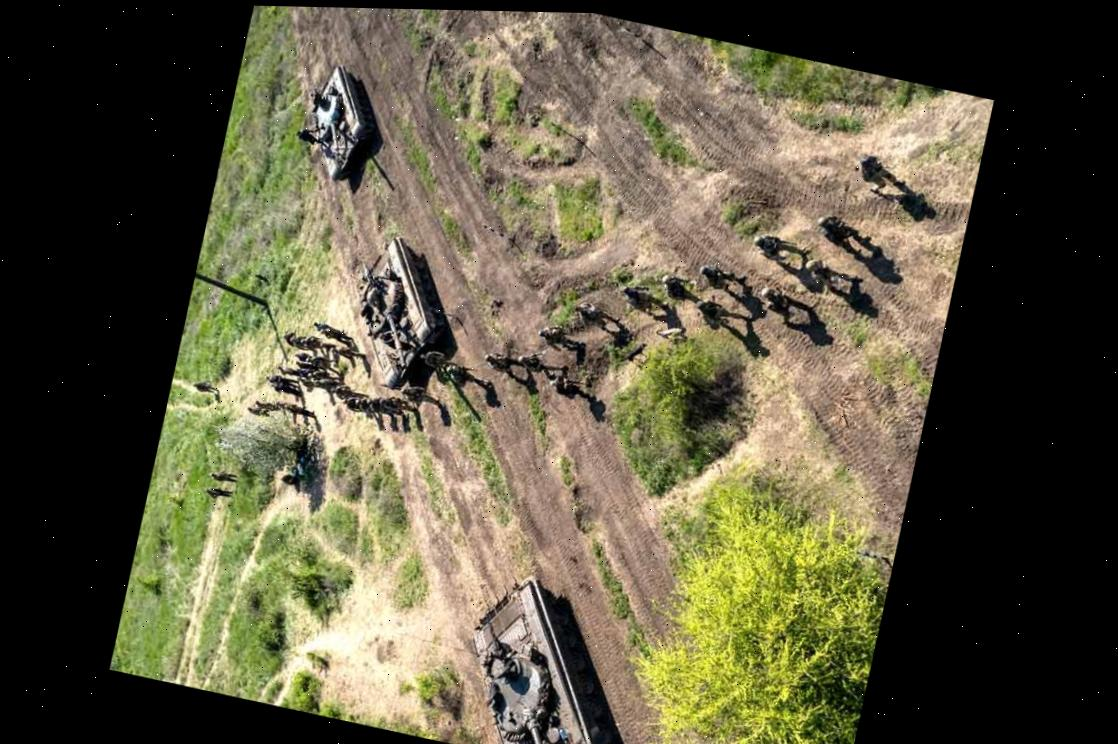tank: (445, 564, 669, 744), (334, 230, 470, 401), (292, 57, 388, 189)
